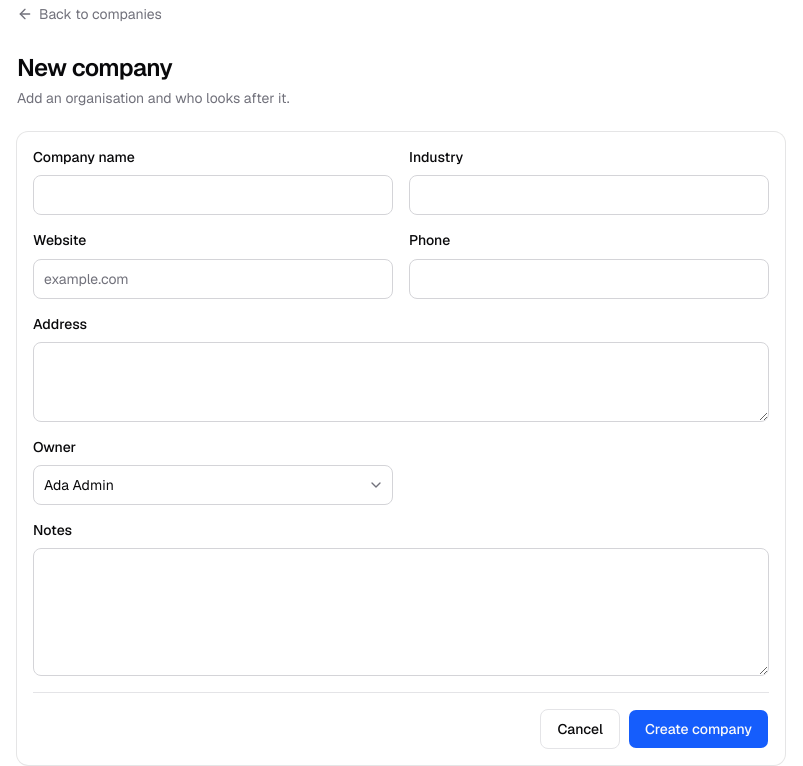
Test: NewCompanyPage › checks the fields before sending anything
The width and height of the screenshot is (803, 766).
Expected: the field labelled "Company name" is shown, [33,175,393,215]
In the field labelled "Website": {"x": 213, "y": 278} [33,258,393,298], type "javascript:alert(1)"
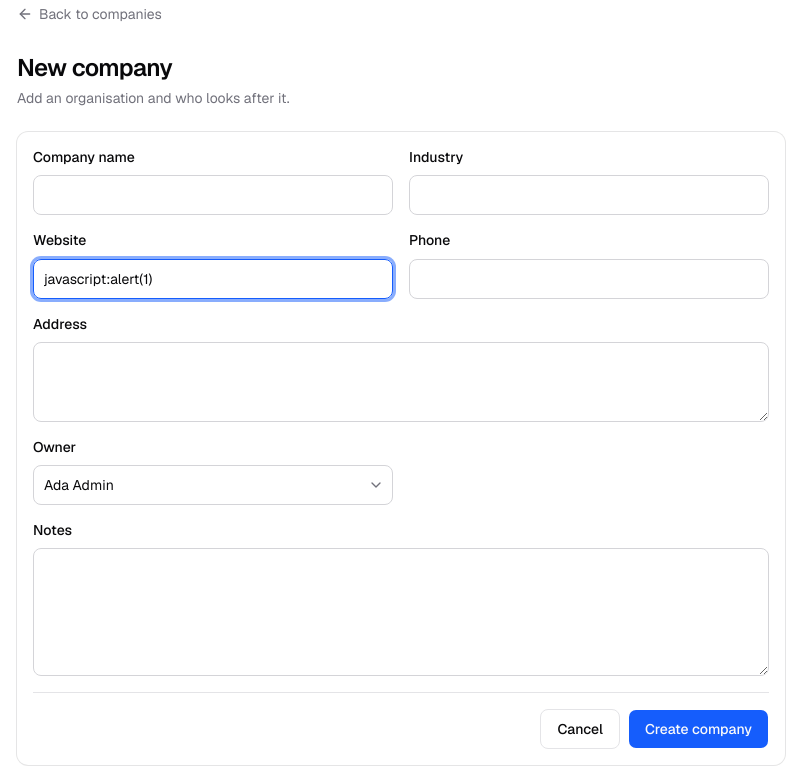
Click the button "Create company": {"x": 698, "y": 729} [628,709,769,749]
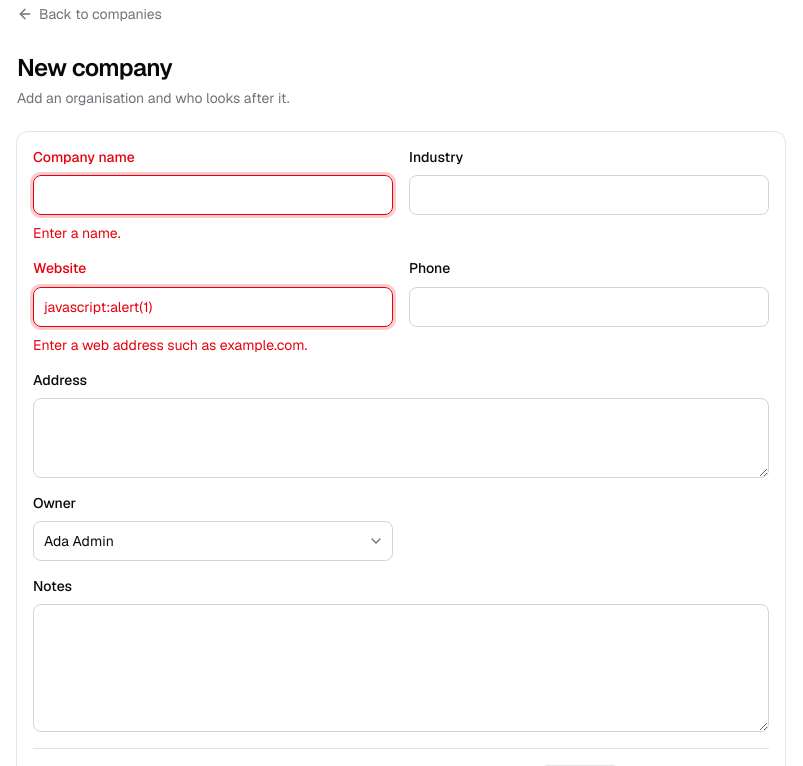
Expected: the text "Enter a name." is shown, [33,224,120,242]
Expected: the text "Enter a web address such as example.com." is shown, [33,336,307,354]
